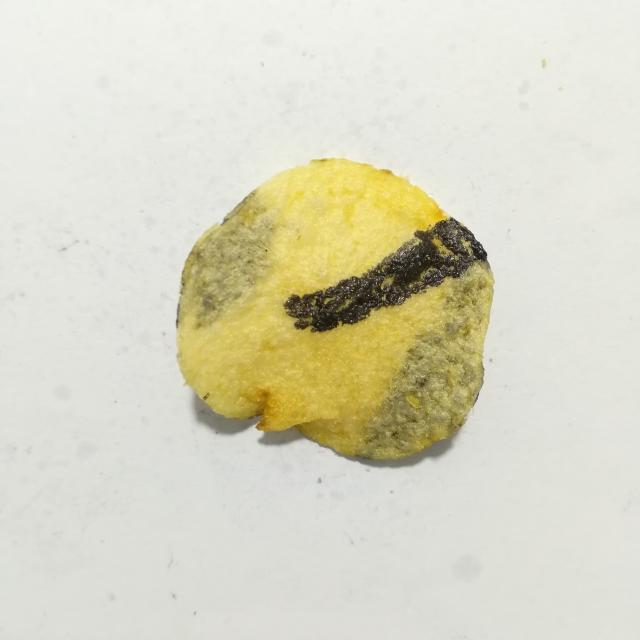chip: (177, 158, 494, 460)
damaged: (285, 218, 487, 332)
semi-damaged: (360, 261, 494, 459), (177, 190, 274, 328)
